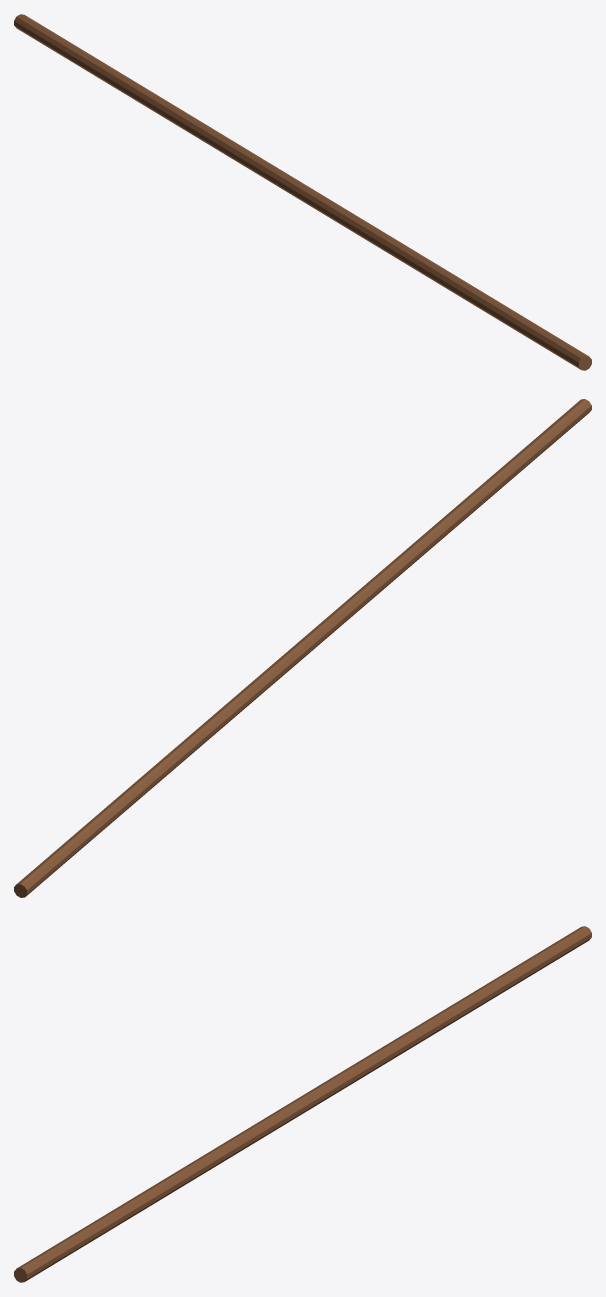
Rendered from SM_Interact_CuttableRope_001.fbx.
3 renders of one model, top to bottom at view 1: azimuth 30°, elevation 25°; view 2: azimuth 150°, elevation 25°; view 3: azimuth 330°, elevation 25°, orthographic.
Visible parts, largest first — view 1: SM_Interact_CuttableRope_001; view 2: SM_Interact_CuttableRope_001; view 3: SM_Interact_CuttableRope_001.
Part boxes in pixels (bbox=[...]): SM_Interact_CuttableRope_001: bbox=[14, 14, 591, 370]; SM_Interact_CuttableRope_001: bbox=[14, 399, 591, 897]; SM_Interact_CuttableRope_001: bbox=[14, 926, 591, 1282].
Size of the model in its own units: 0.0666 by 5 by 0.4198.
